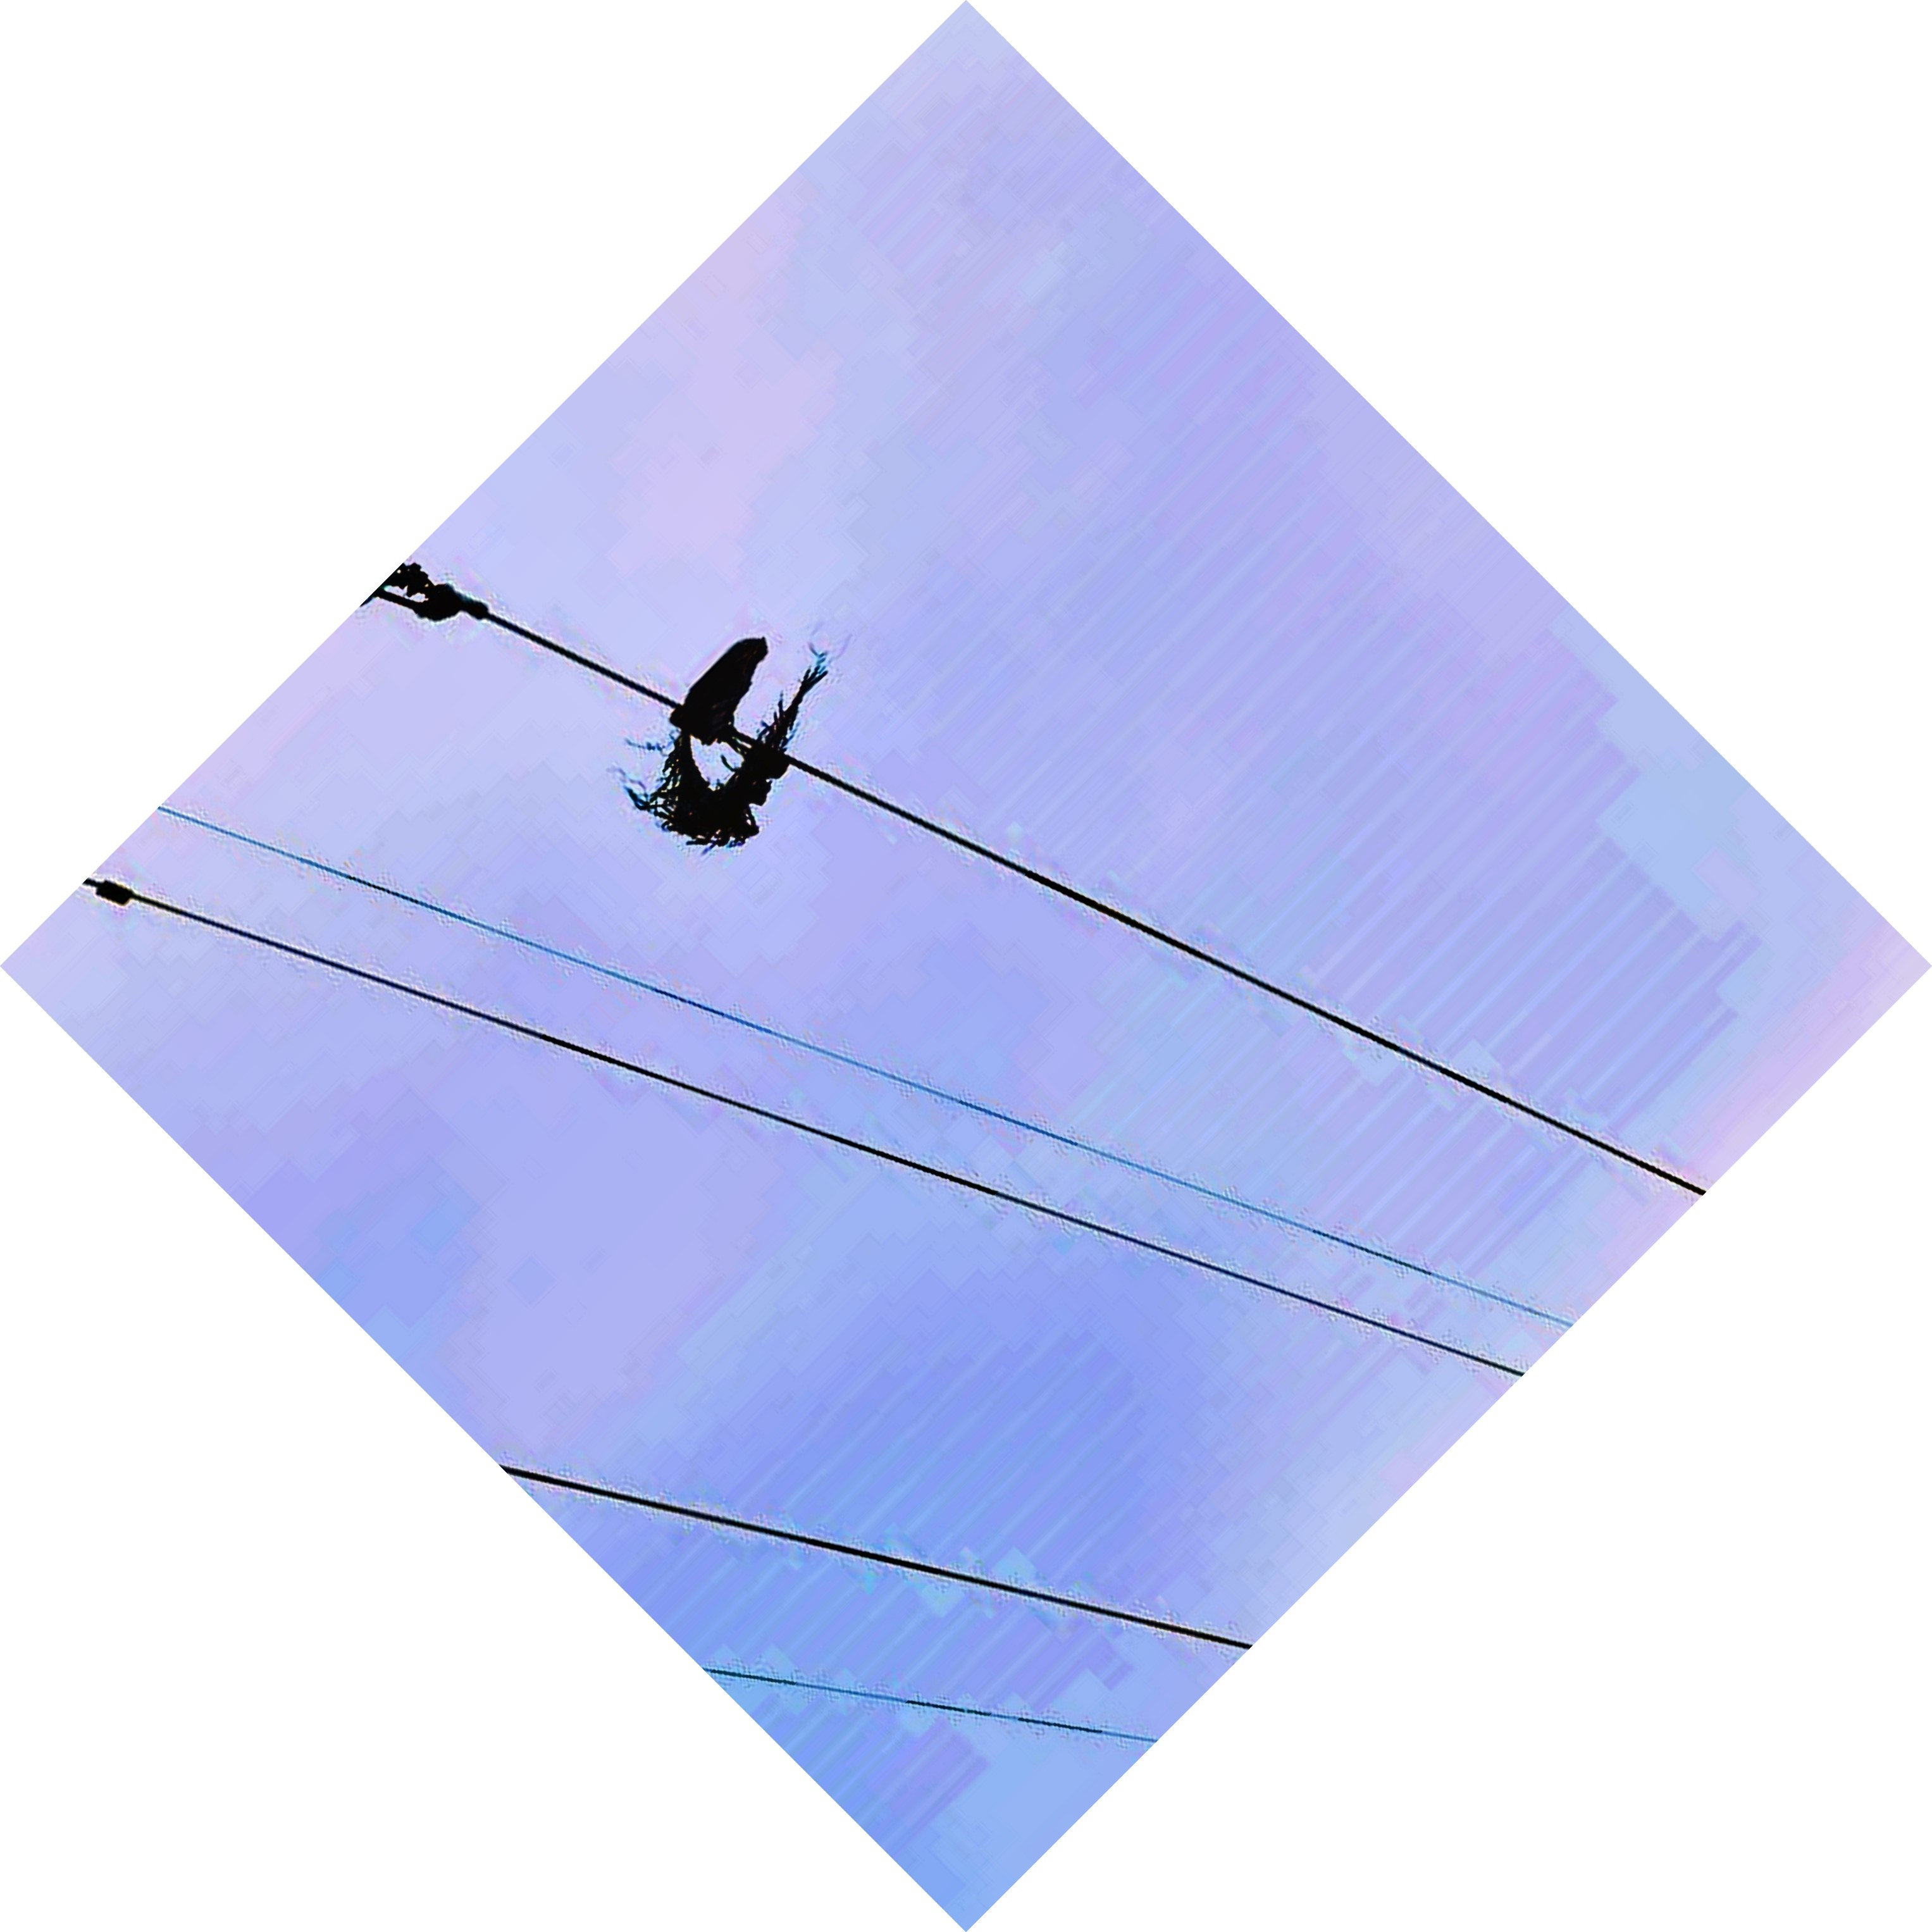wire foreign body: (609, 626, 872, 878)
